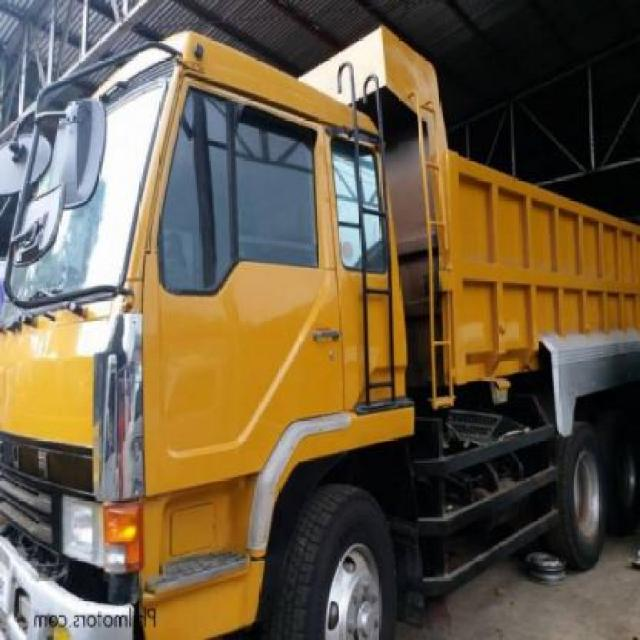truck: (2, 26, 636, 640)
